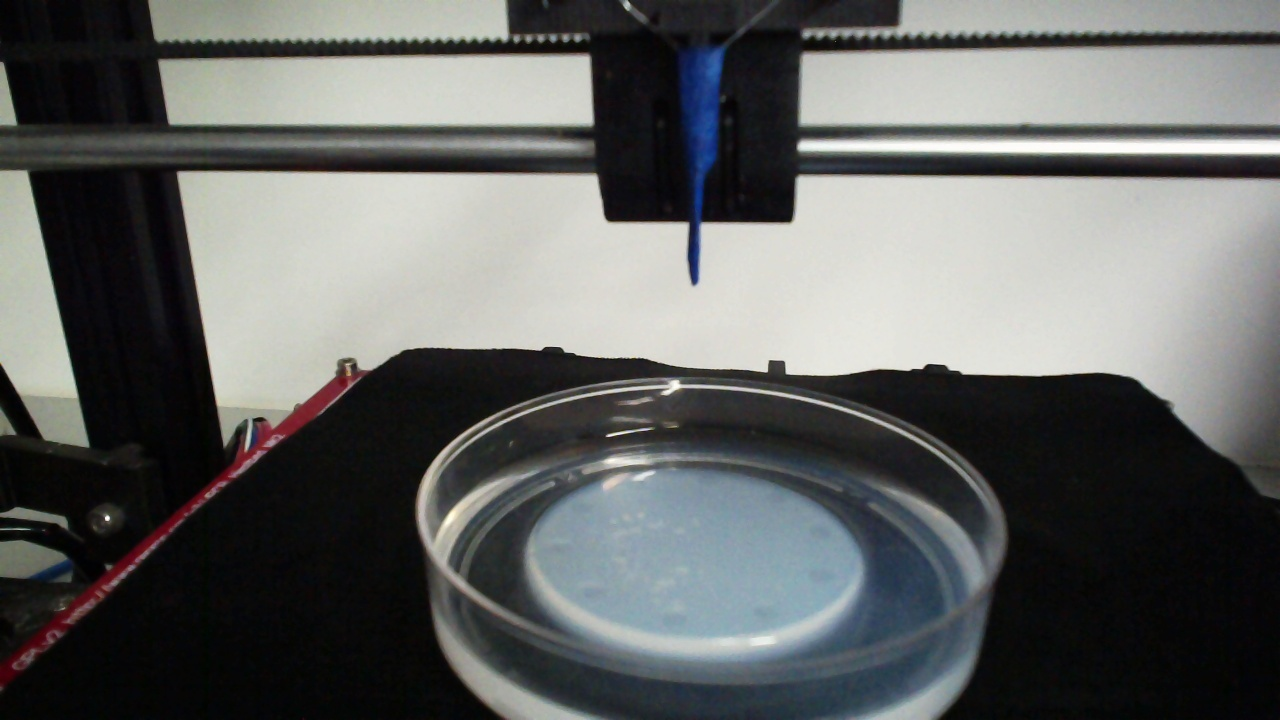groove: (658, 608, 690, 631), (540, 538, 572, 560), (751, 603, 780, 625), (806, 565, 837, 585), (578, 581, 607, 602), (807, 521, 835, 542), (569, 496, 597, 517), (760, 487, 789, 506), (693, 470, 722, 488)
needle: (681, 48, 723, 286)
